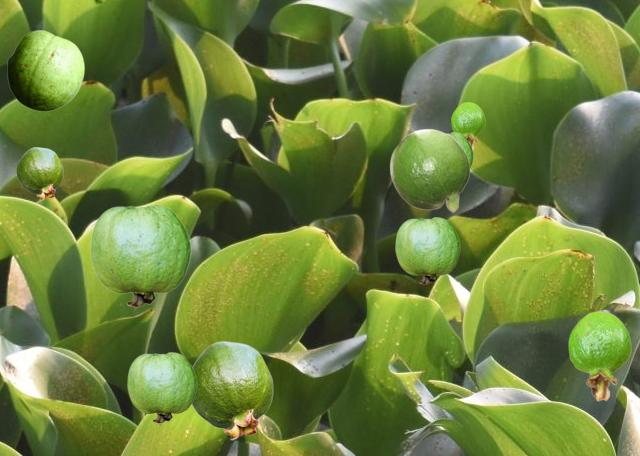guava: (90, 204, 190, 306), (192, 341, 272, 439), (389, 128, 469, 212), (7, 30, 83, 110), (568, 311, 630, 400), (127, 352, 196, 422), (395, 217, 459, 283), (16, 147, 62, 199), (451, 102, 484, 150), (448, 132, 472, 170)
